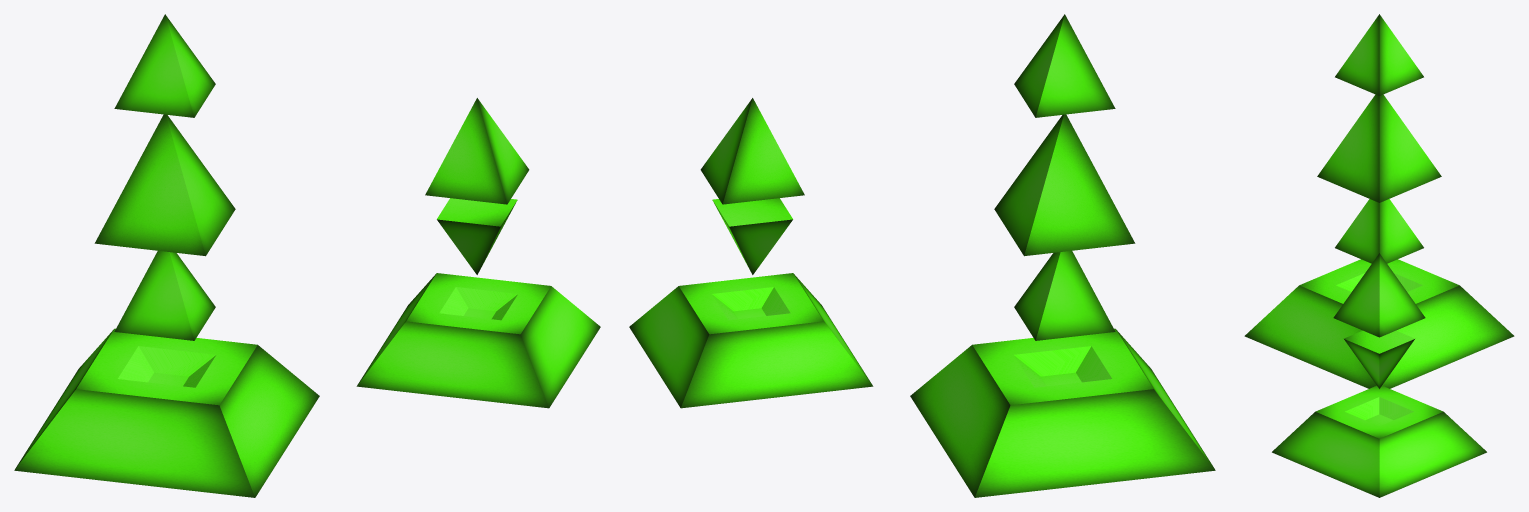
File: SM_Green_Assests.fbx
The picture shows the model from 3 angles, left to right: view 1: azimuth 30°, elevation 25°; view 2: azimuth 150°, elevation 25°; view 3: azimuth 270°, elevation 25°; orthographic projection. The views are drawn at different scales.
Visible parts, largest first — view 1: pCube15, pCube13; view 2: pCube15, pCube13; view 3: pCube15, pCube13.
Part boxes in pixels (x1,y1,x2,y2): pCube15: [14, 14, 319, 497]; pCube13: [356, 98, 600, 408]; pCube15: [910, 14, 1215, 497]; pCube13: [629, 98, 873, 408]; pCube15: [1244, 14, 1514, 388]; pCube13: [1272, 253, 1486, 497].
Size of the model in its own units: 10.23 by 6.99 by 5.33.
Materials: 1 (1 with a texture image).
